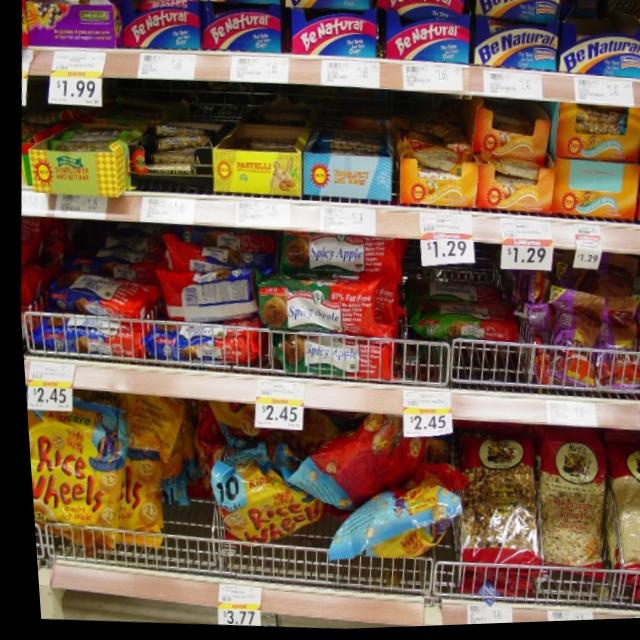q37: (22, 410, 124, 539)
